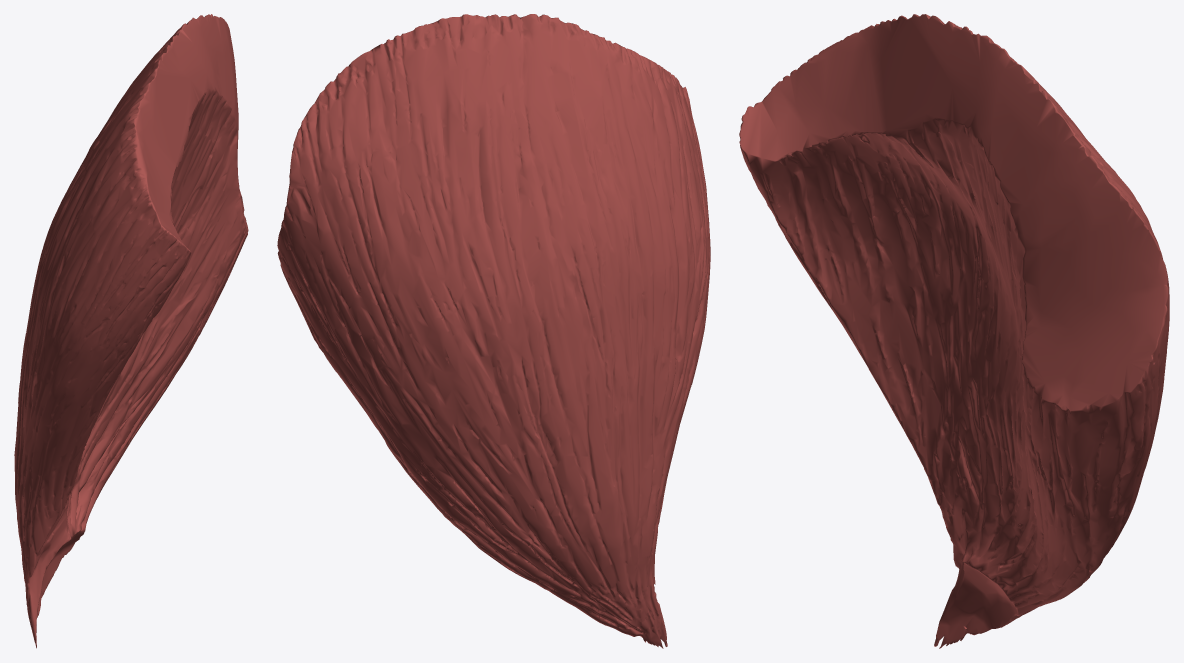
Rendered from FMA22330.glb.
3 renders of one model, left to right at view 1: azimuth 30°, elevation 25°; view 2: azimuth 150°, elevation 25°; view 3: azimuth 270°, elevation 25°, orthographic. The views are drawn at different scales.
Visible parts, largest first — view 1: FMA22330; view 2: FMA22330; view 3: FMA22330.
Part boxes in pixels (x1=…): FMA22330: x1=14, y1=14, x2=248, y2=648; FMA22330: x1=277, y1=14, x2=710, y2=648; FMA22330: x1=739, y1=14, x2=1169, y2=648.
Bounding box in the file's own units: 0.0867 × 0.1627 × 0.0888.
